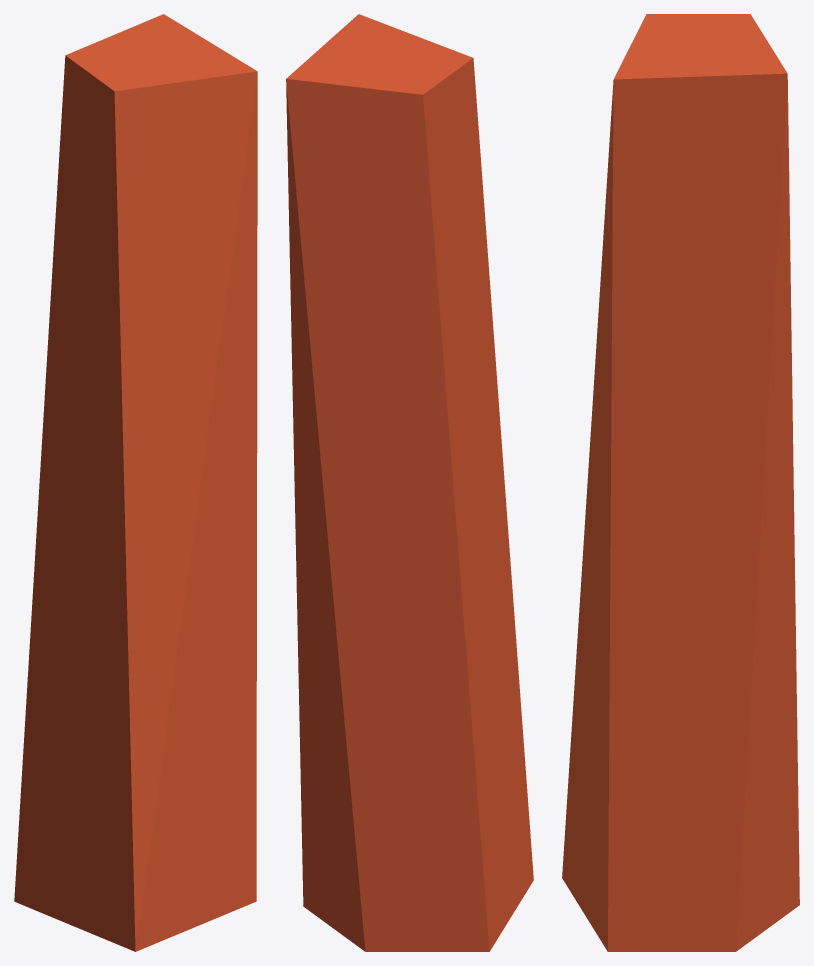
File: Mahogany Log.fbx
3 views of the same model, side by side, from view 1: azimuth 30°, elevation 25°; view 2: azimuth 150°, elevation 25°; view 3: azimuth 270°, elevation 25° (orthographic). The views are drawn at different scales.
Visible parts, largest first — view 1: Mahogany; view 2: Mahogany; view 3: Mahogany.
Boxes of the visible parts, x1=… form: Mahogany: x1=14, y1=14, x2=257, y2=951; Mahogany: x1=286, y1=14, x2=533, y2=951; Mahogany: x1=562, y1=14, x2=799, y2=951.
Size of the model in its own units: 260 by 273 by 1109.
